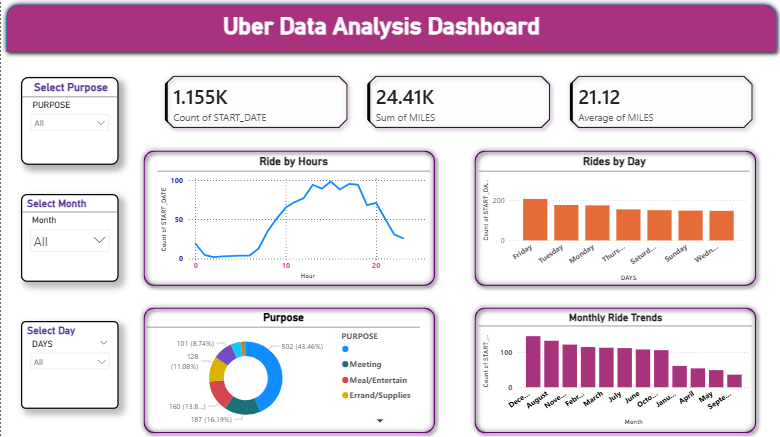

What the dashboard file says about the page in this screenshot:
{"tool":"powerbi","page":{"name":"Page 1","canvas":[1280,720],"ordinal":0},"visuals":[{"type":"shape","box":[0,0,1280,96],"z":0},{"type":"textbox","box":[64,16,1120,64],"z":1000},{"type":"cardVisual","fields":{"Data":["CountNonNull(UberDataset.START_DATE)","Sum(UberDataset.MILES)","Avg(UberDataset.MILES)"]},"box":[240,96,1024,144],"z":2000},{"type":"lineChart","title":"Ride by Hours ","fields":{"Category":["UberDataset.Hour"],"Y":["CountNonNull(UberDataset.START_DATE)"]},"box":[256,256,448,208],"z":3000},{"type":"shape","box":[224,240,496,240],"z":3001},{"type":"shape","box":[768,240,480,240],"z":3002},{"type":"shape","box":[224,496,496,224],"z":3003},{"type":"shape","box":[768,496,480,224],"z":3004},{"type":"clusteredColumnChart","title":"Rides by Day","fields":{"Category":["UberDataset.DAYS"],"Y":["CountNonNull(UberDataset.START_DATE)"]},"box":[784,256,444,211],"z":3005},{"type":"donutChart","title":"Purpose","fields":{"Category":["UberDataset.PURPOSE"],"Y":["CountNonNull(UberDataset.START_DATE)"]},"box":[240,512,448,192],"z":3006},{"type":"clusteredColumnChart","title":"Monthly Ride Trends","fields":{"Y":["CountNonNull(UberDataset.START_DATE)"],"Category":["UberDataset.Month"]},"box":[784,512,448,192],"z":3007},{"type":"slicer","title":"Select Purpose","fields":{"Values":["UberDataset.PURPOSE"]},"box":[32,128,160,144],"z":3009},{"type":"slicer","title":"Select  Month","fields":{"Values":["UberDataset.Month"]},"box":[32,320,160,144],"z":3010},{"type":"slicer","title":"Select Day","fields":{"Values":["UberDataset.DAYS"]},"box":[32,528,160,144],"z":3011}]}

Visuals, with their boxes in screenshot pixels (x1, y1, x2, y2), scaled from the page's 1280x720 canvas onto the 780x437 screenshot:
shape: region(0, 0, 779, 58)
textbox: region(39, 10, 722, 49)
cardVisual - CountNonNull(UberDataset.START_DATE) x Sum(UberDataset.MILES): region(146, 58, 770, 146)
"Ride by Hours " lineChart: region(156, 155, 429, 282)
shape: region(136, 146, 439, 291)
shape: region(468, 146, 760, 291)
shape: region(136, 301, 439, 436)
shape: region(468, 301, 760, 436)
"Rides by Day" clusteredColumnChart: region(478, 155, 748, 283)
"Purpose" donutChart: region(146, 311, 419, 427)
"Monthly Ride Trends" clusteredColumnChart: region(478, 311, 751, 427)
"Select Purpose" slicer: region(20, 78, 117, 165)
"Select  Month" slicer: region(20, 194, 117, 282)
"Select Day" slicer: region(20, 320, 117, 408)
